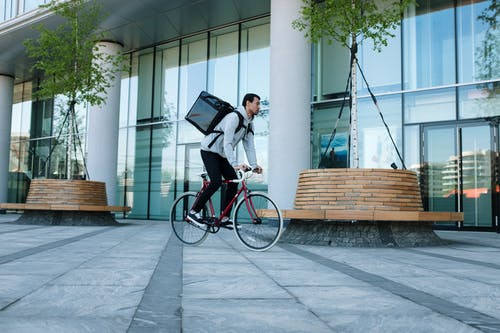bicycle: (164, 162, 286, 255)
